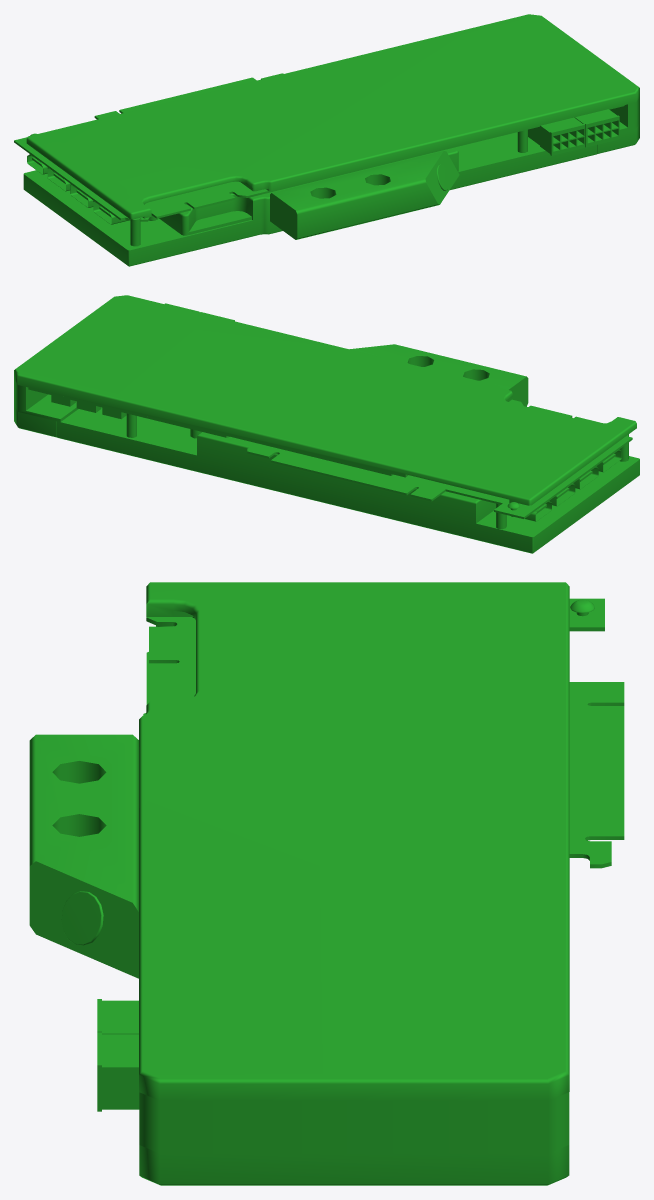
Rendered from 1783942420810_GPU.glb.
3 views of the same model, one above another, from view 1: azimuth 30°, elevation 25°; view 2: azimuth 150°, elevation 25°; view 3: azimuth 270°, elevation 25° (orthographic). The views are drawn at different scales.
Visible parts, largest first — view 1: GPU; view 2: GPU; view 3: GPU.
Boxes of the visible parts, x1=… form: GPU: x1=14, y1=14, x2=639, y2=266; GPU: x1=14, y1=295, x2=639, y2=553; GPU: x1=29, y1=582, x2=624, y2=1185.
Bounding box in the file's own units: 6.87 × 0.6826 × 3.44.
